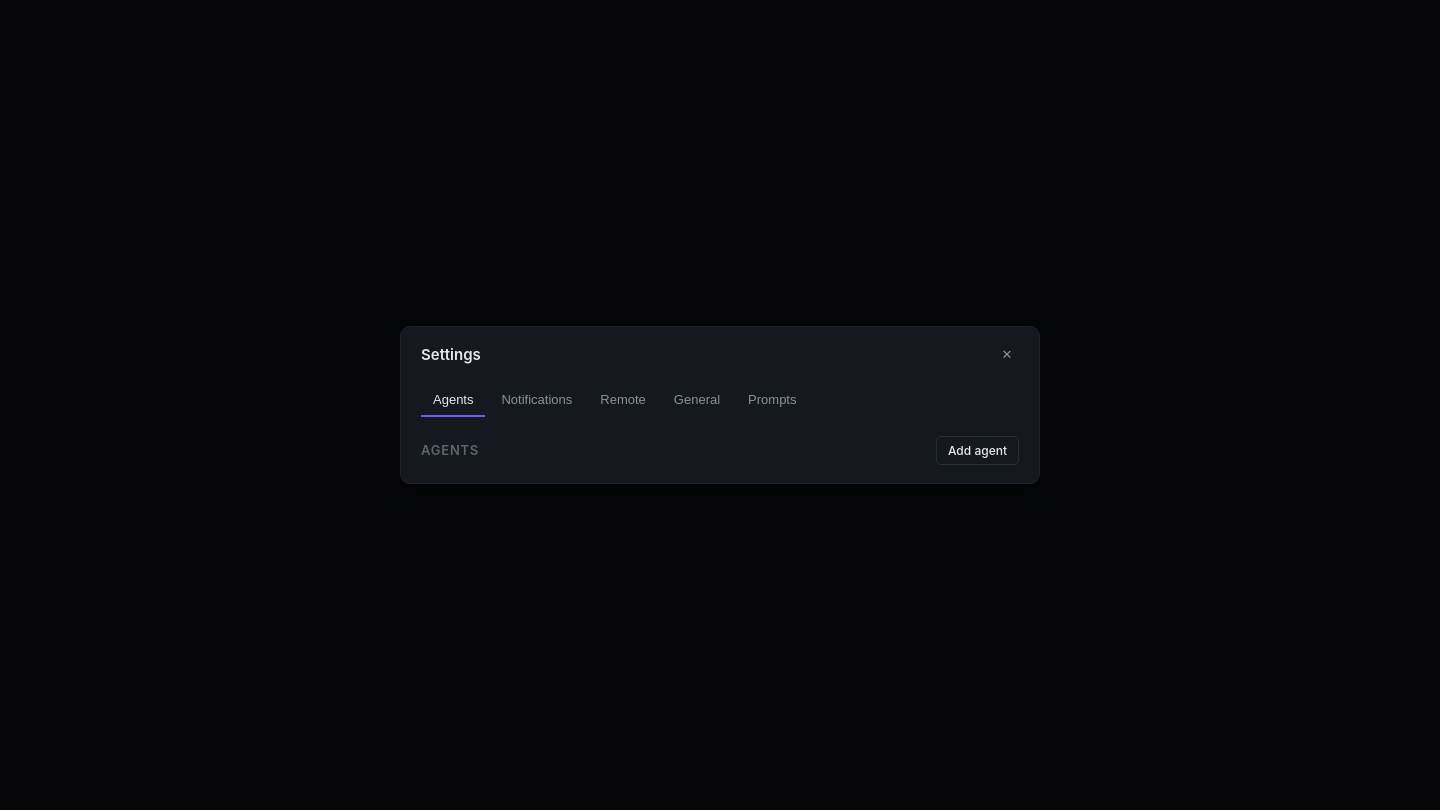
SettingsModal — tab switching › shows the Agents tab by default and switches panels on tab click
Expected: the button "Add agent" is shown, left=936, top=436, right=1019, bottom=465
# Switch to Notifications: its content mounts, Agents content unmounts.
Click the tab "Notifications". click: click(537, 400)
box: left=490, top=384, right=584, bottom=417
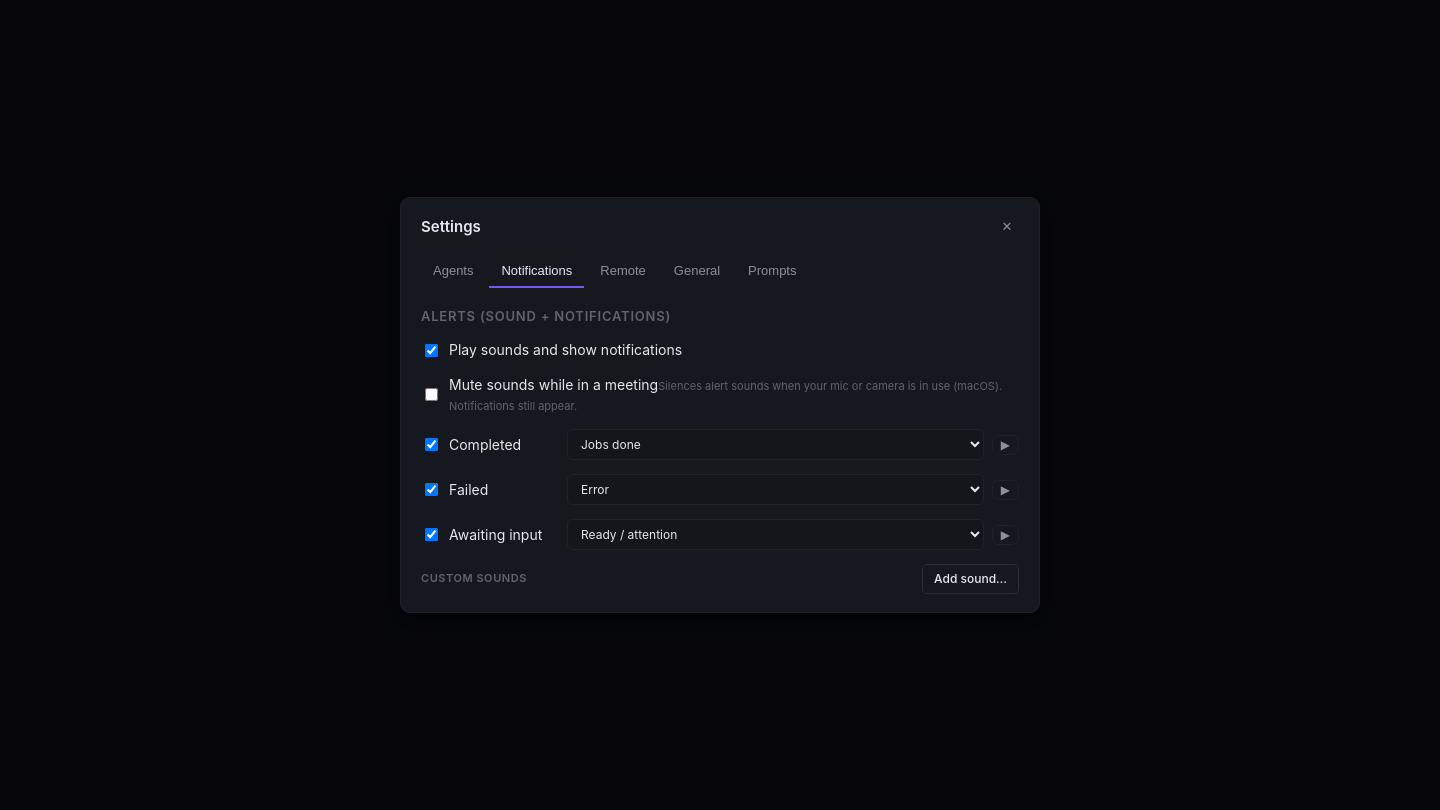
Now the switch named "Enable alerts" is shown, box left=425, top=344, right=438, bottom=357
Now the button "Add agent" is gone
# Switch to General: worktree toggle mounts, notification content unmounts.
Click the tab "General". click: click(697, 272)
box: left=662, top=255, right=732, bottom=288
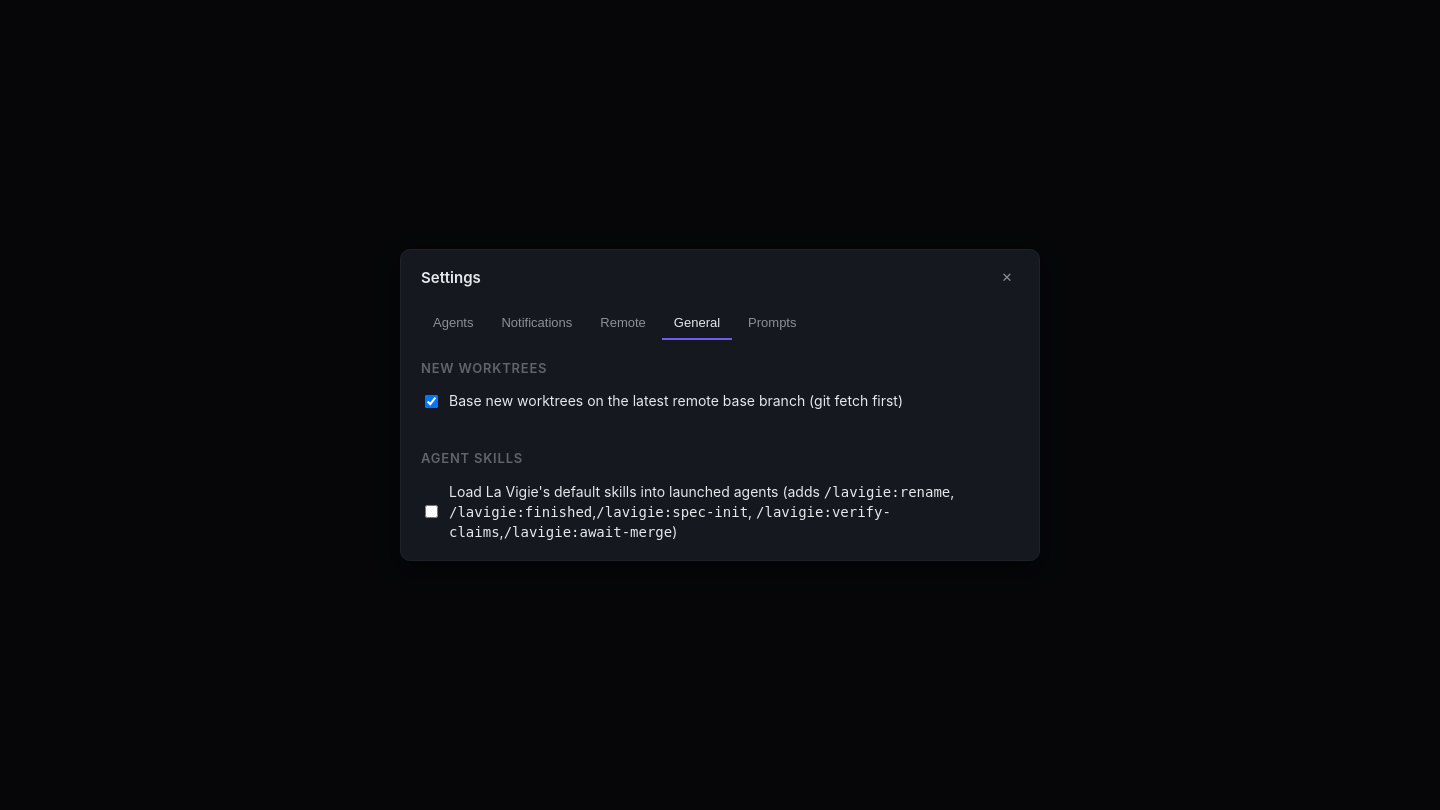
Now the switch labelled "Base new worktrees on the latest remote base branch" is shown, box left=425, top=395, right=438, bottom=408
# Switch to Prompts: the prompt manager section mounts.
Click the tab "Prompts". click: click(772, 323)
box: left=736, top=307, right=808, bottom=340
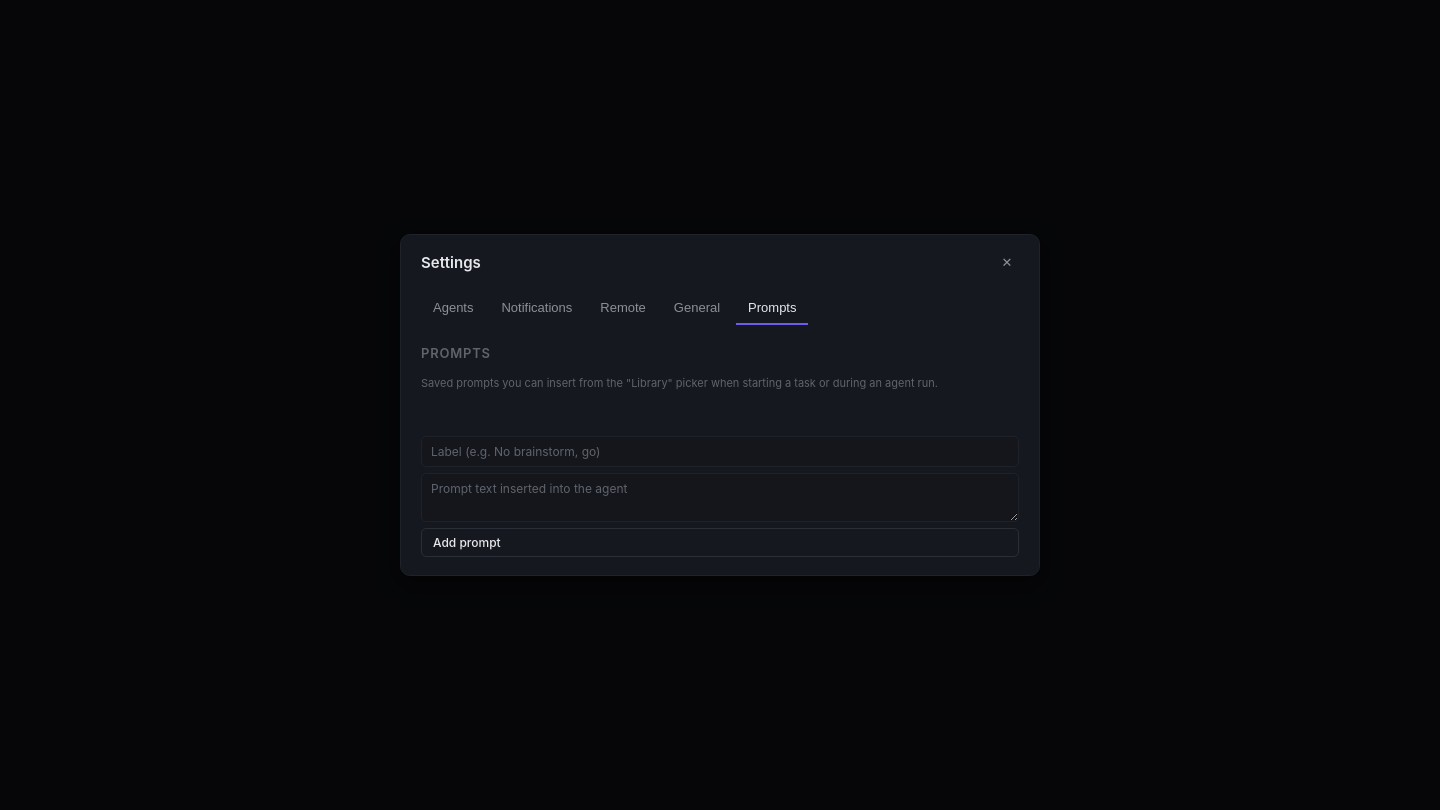
Now the heading "Prompts" is shown, box left=421, top=344, right=491, bottom=362
